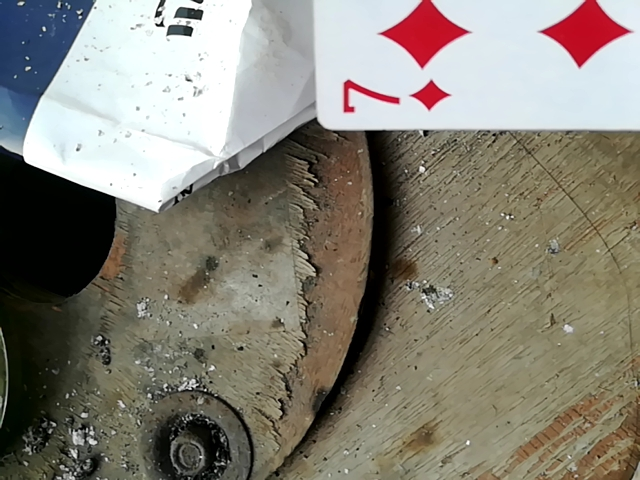fk 7: (303, 0, 633, 139)
